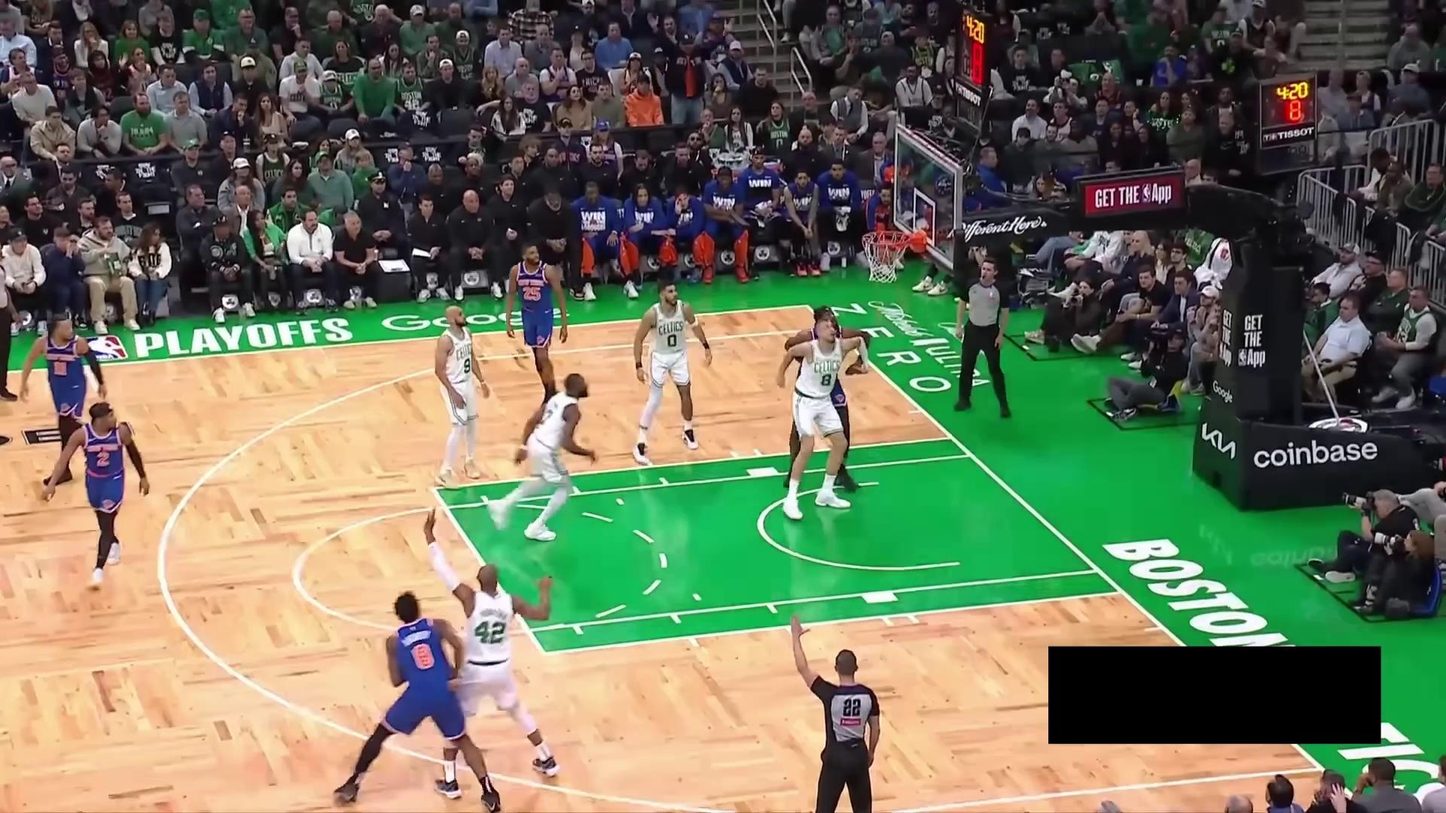ball: (872, 247, 899, 266)
ball-in-basket: (861, 227, 913, 283)
number: (474, 620, 506, 644), (411, 642, 435, 670), (522, 285, 541, 302), (53, 360, 69, 377), (96, 449, 111, 467), (540, 407, 554, 426), (819, 371, 834, 388), (666, 332, 678, 349), (462, 357, 472, 375)
player: (420, 504, 562, 782), (332, 591, 505, 812), (41, 399, 151, 591), (776, 316, 872, 522), (486, 371, 599, 542), (784, 305, 872, 492), (631, 279, 713, 468), (19, 312, 108, 484), (504, 239, 569, 413), (432, 303, 492, 490)
referee: (791, 614, 881, 813), (953, 254, 1012, 419), (0, 236, 23, 404)
rim: (861, 229, 912, 247)
